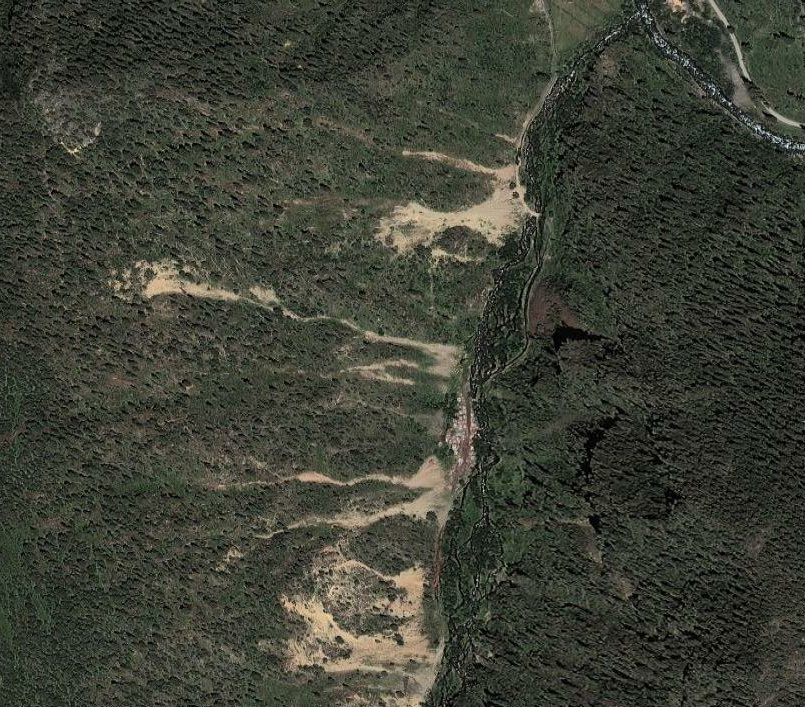slope: (280, 548, 443, 706), (373, 142, 536, 259), (294, 452, 454, 530), (114, 257, 297, 320), (338, 325, 469, 399)
